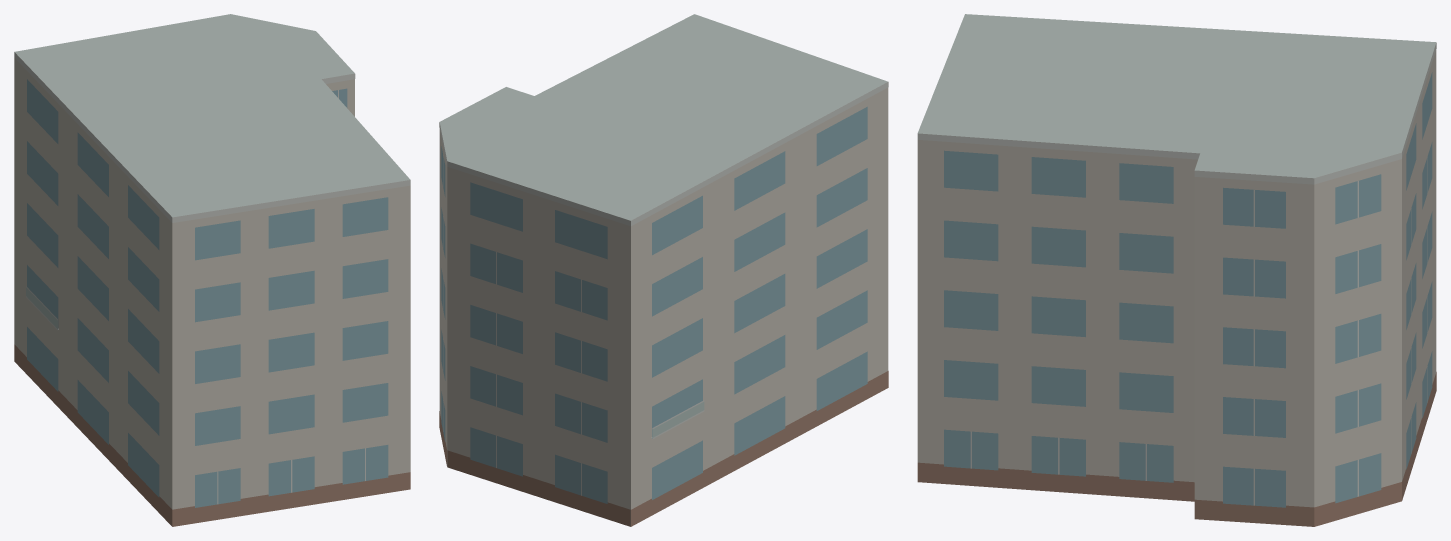
The model's file is survey-upis-32758236.glb.
3 views of the same model, side by side, from view 1: azimuth 30°, elevation 25°; view 2: azimuth 150°, elevation 25°; view 3: azimuth 270°, elevation 25° (orthographic). The views are drawn at different scales.
Visible parts, largest first — view 1: survey-upis-32758236.tmp; view 2: survey-upis-32758236.tmp; view 3: survey-upis-32758236.tmp.
Part boxes in pixels (bbox=[...]): survey-upis-32758236.tmp: bbox=[14, 14, 410, 526]; survey-upis-32758236.tmp: bbox=[439, 14, 888, 526]; survey-upis-32758236.tmp: bbox=[917, 14, 1436, 526].
Size of the model in its own units: 13.54 by 13.39 by 18.07.
